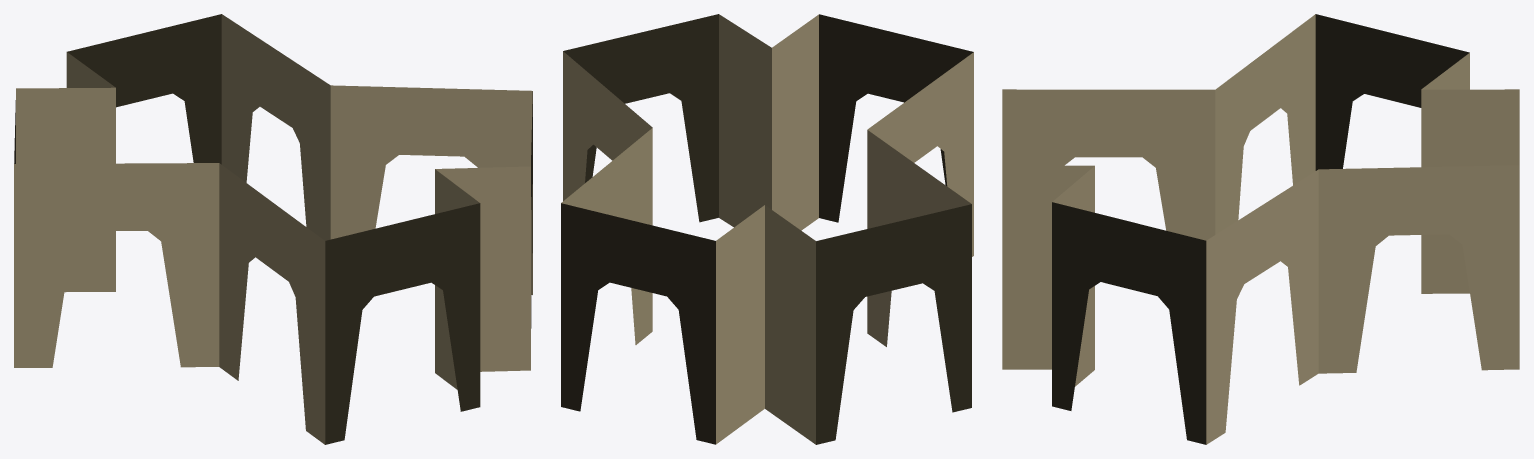
The model's file is Road_XAngle_Bridge.fbx.
3 views of the same model, side by side, from view 1: azimuth 30°, elevation 25°; view 2: azimuth 150°, elevation 25°; view 3: azimuth 270°, elevation 25° (orthographic).
Visible parts, largest first — view 1: Road_XAngle_Bridge; view 2: Road_XAngle_Bridge; view 3: Road_XAngle_Bridge.
Part boxes in pixels (bbox=[...]): Road_XAngle_Bridge: bbox=[14, 14, 532, 444]; Road_XAngle_Bridge: bbox=[561, 14, 973, 444]; Road_XAngle_Bridge: bbox=[1002, 14, 1519, 444].
Size of the model in its own units: 0.898 by 0.866 by 0.3773.
